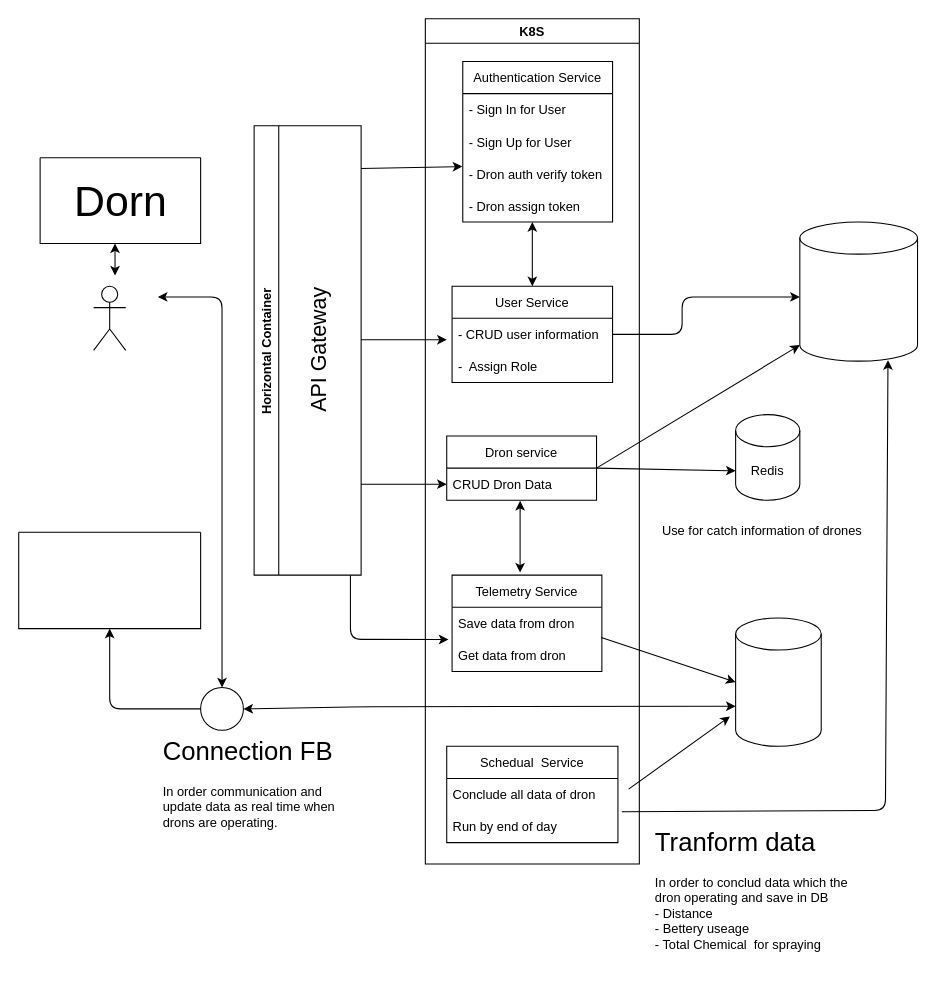
Image size: 936x1000. Some labels were removed from this diagram. Each missing label, with the centre of its shape:
Application: the point at 109,317
Dashboad Web application: the point at 109,580
Firestore: the point at 778,681
Postgrest: the point at 858,291
